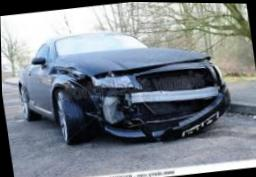Bumper: (99, 81, 235, 141)
Fender: (44, 62, 81, 93)
